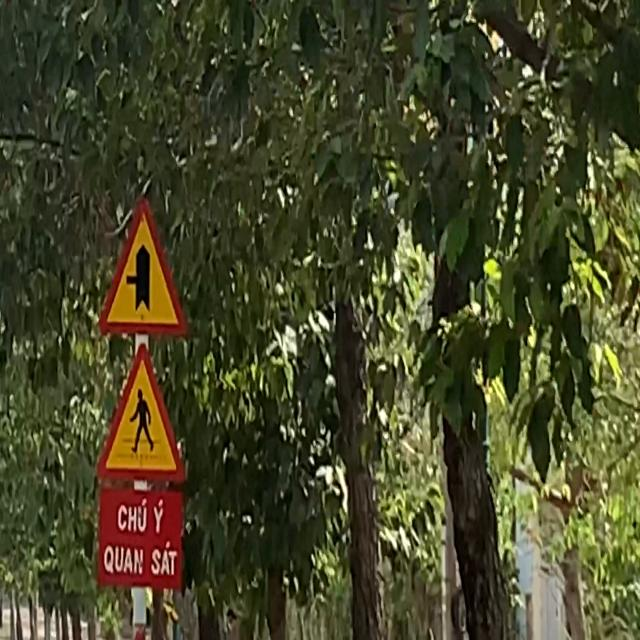Duong giao nhau: (98, 194, 190, 338)
Nguoi di bo cat ngang: (96, 342, 186, 486)
